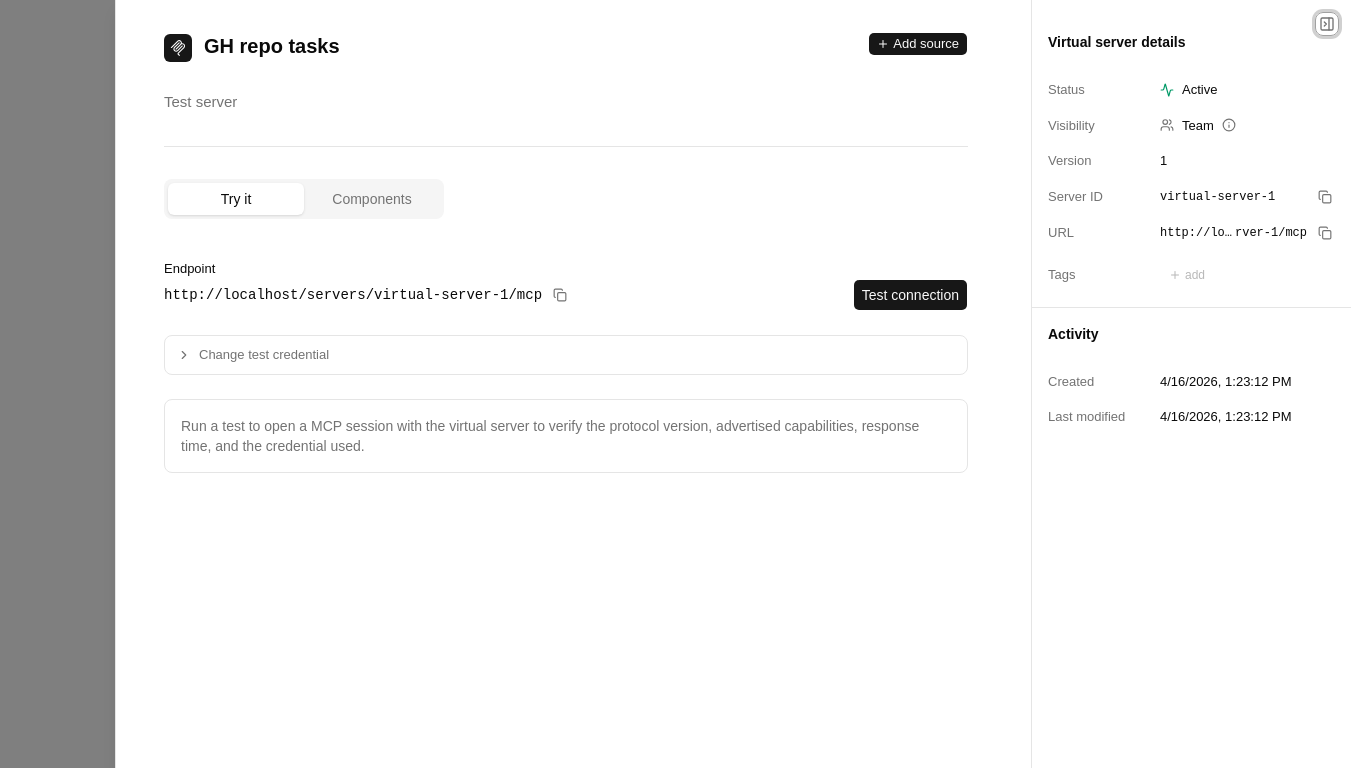
Test case: VirtualServerDetailsPanel tool testing › uses snake_case tool fields for scoped testing
Click the tab "Components" at (372, 199), box [304,183,440,215]
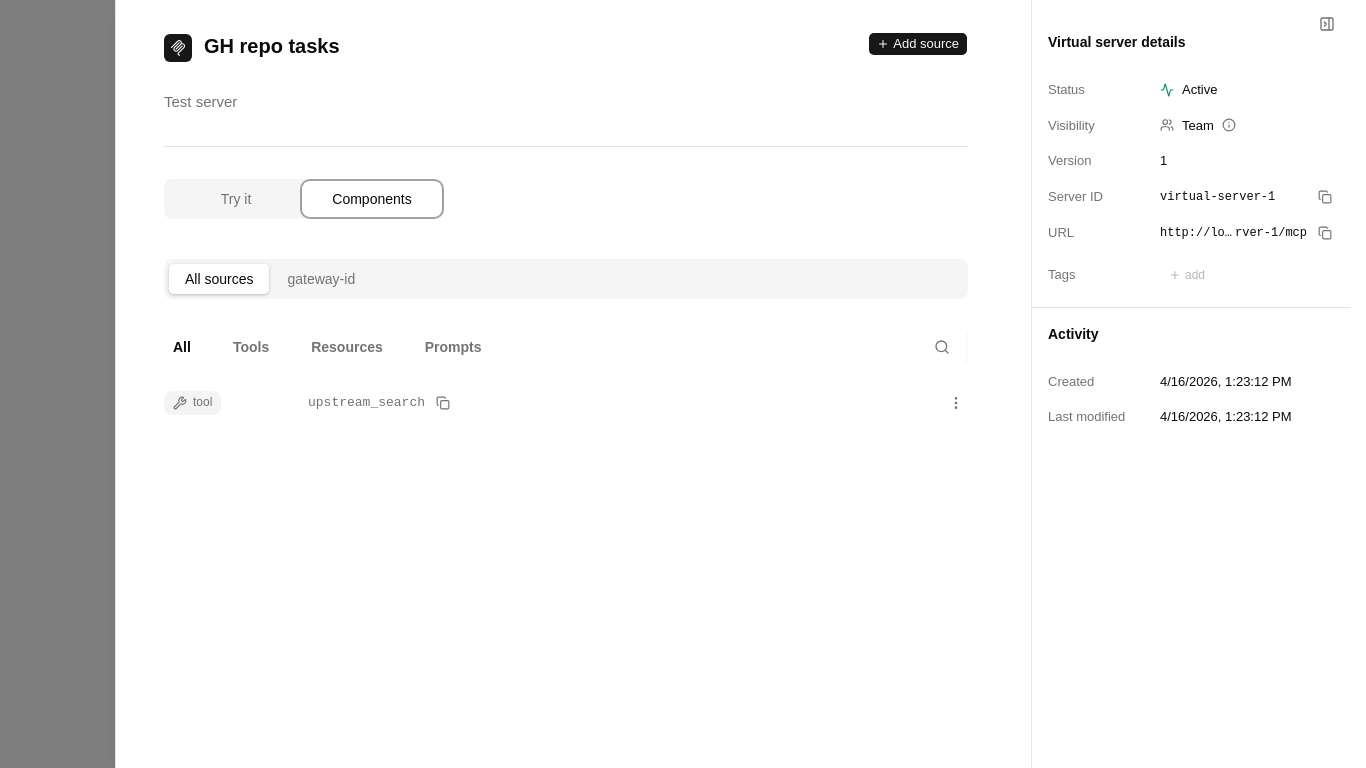
Click the button named "Actions for upstream_search" at (956, 403), box [944,391,968,415]
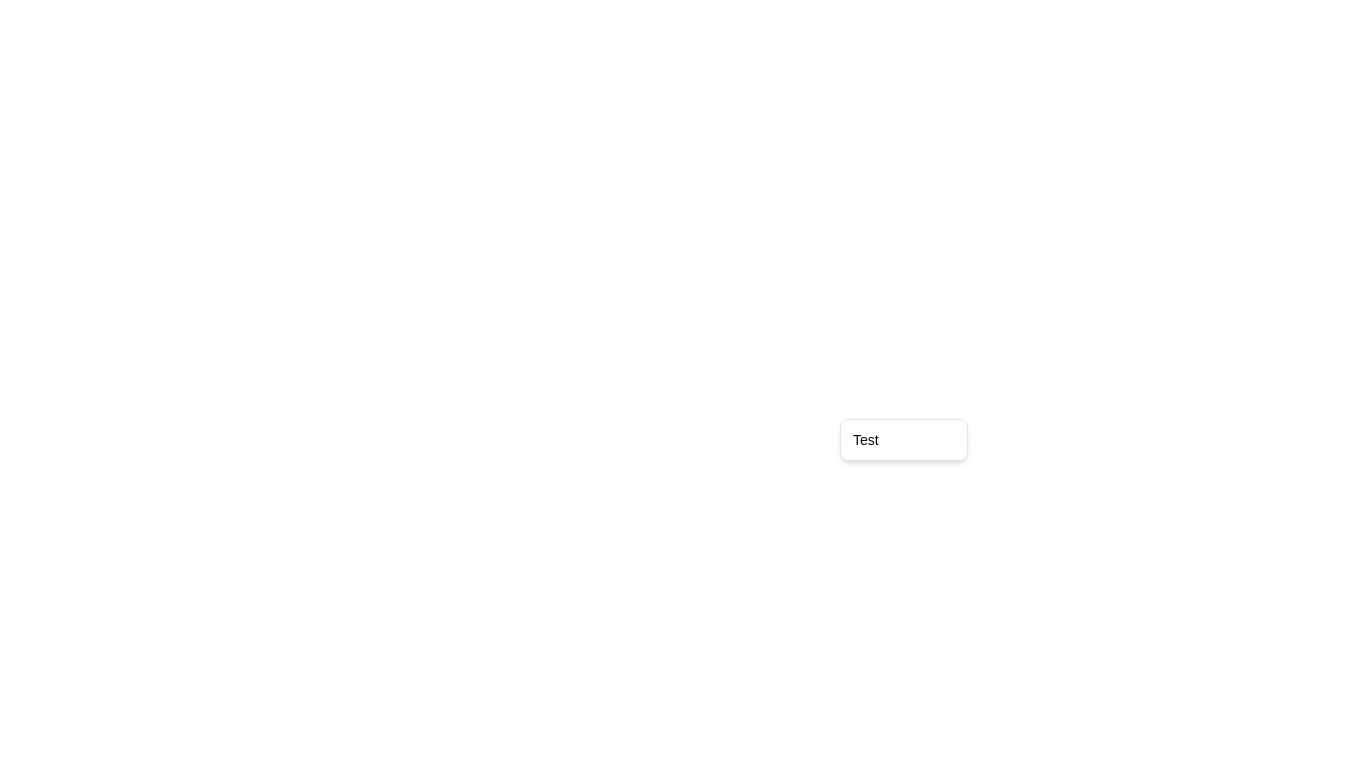
Click the menu item "Test" at (866, 440), box [853,432,879,448]
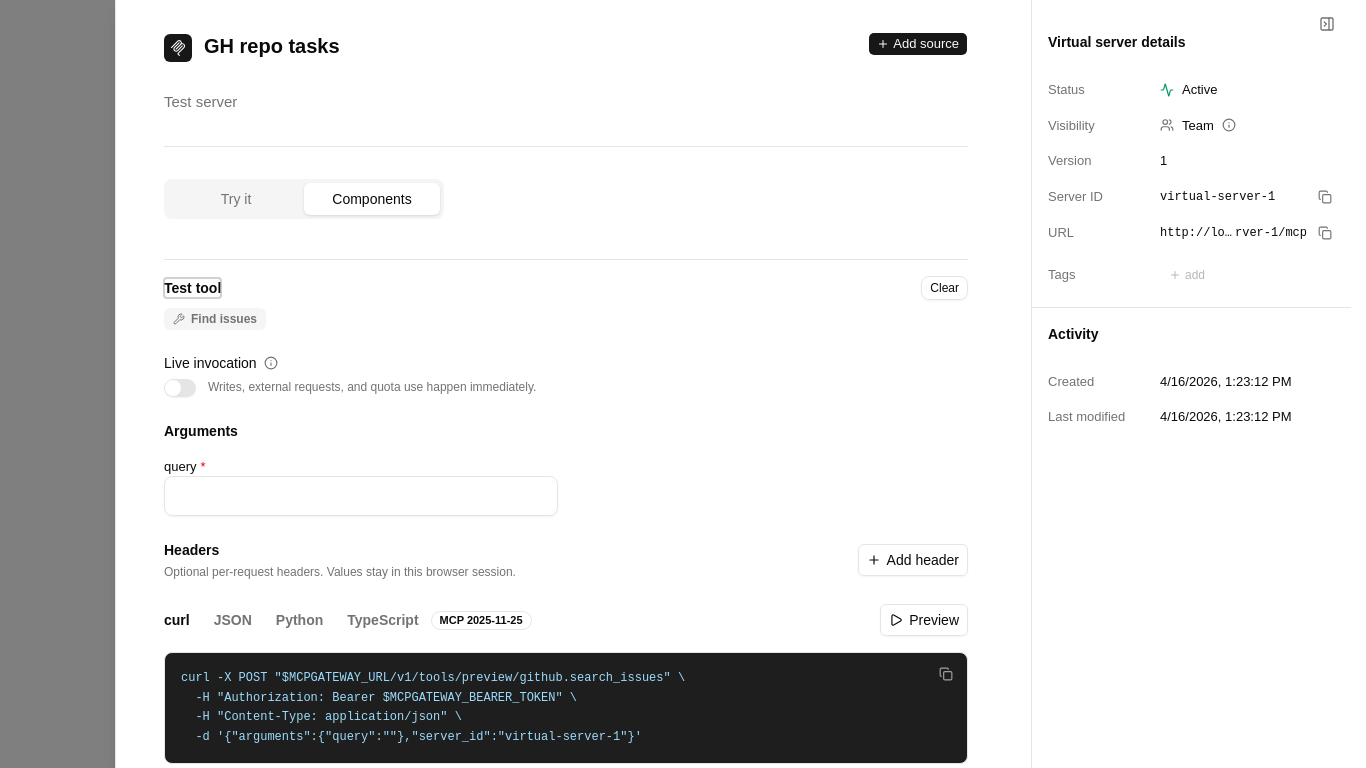
Now the text "Find issues" is shown, box [191,311,257,327]
Now the text "\"server_id\":\"virtual-server-1\"" is shown, box [181,730,642,744]
